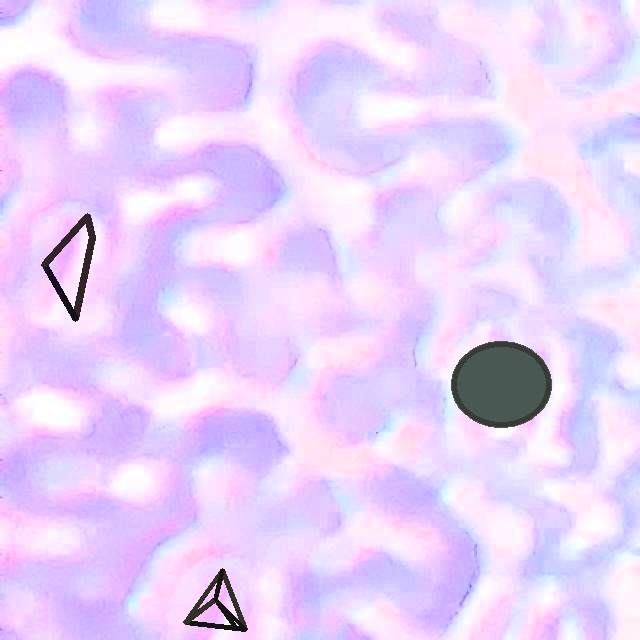close: (451, 342, 550, 427), (41, 213, 95, 321), (183, 568, 247, 630)
